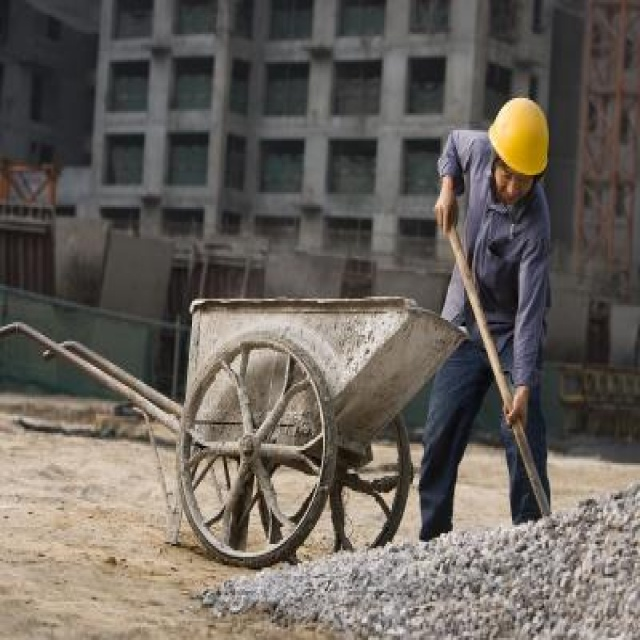safety_helmet: (487, 96, 550, 176)
